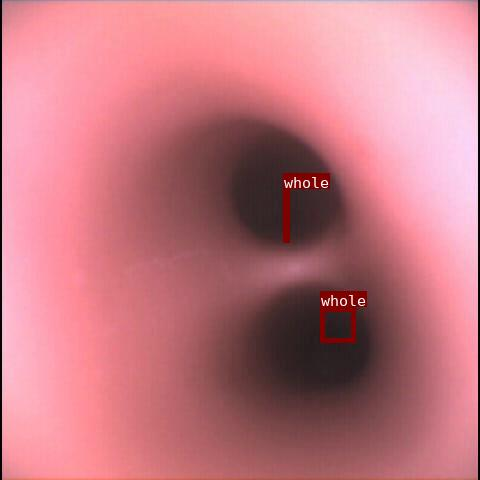whole: (320, 307, 355, 342), (283, 189, 289, 242)
